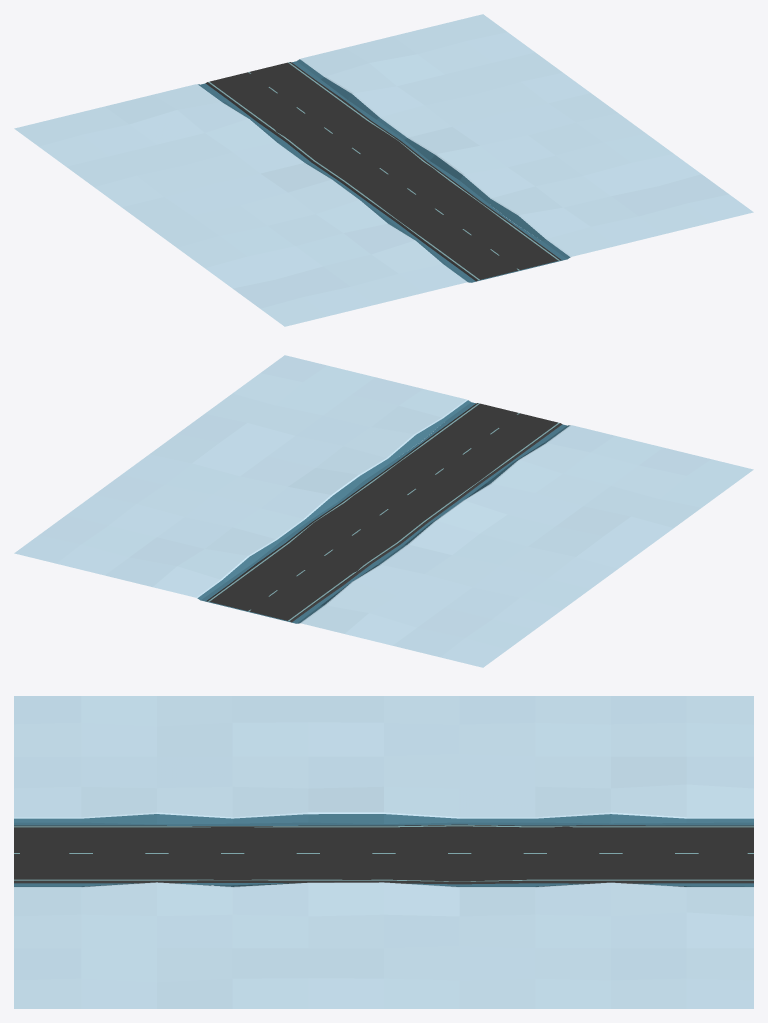
The model's file is model_road_snow_straight_01.fbx.
3 views of the same model, one above another, from view 1: azimuth 30°, elevation 25°; view 2: azimuth 150°, elevation 25°; view 3: azimuth 270°, elevation 25° (orthographic). The views are drawn at different scales.
Visible parts, largest first — view 1: model_road_snow_straight_01; view 2: model_road_snow_straight_01; view 3: model_road_snow_straight_01.
Boxes of the visible parts, x1,y1,x2,y2 form: model_road_snow_straight_01: (14, 14, 753, 326); model_road_snow_straight_01: (14, 355, 753, 667); model_road_snow_straight_01: (14, 696, 753, 1008).
Bounding box in the file's own units: 6000 × 62.78 × 6000.
Materials: 1 (1 with a texture image).
